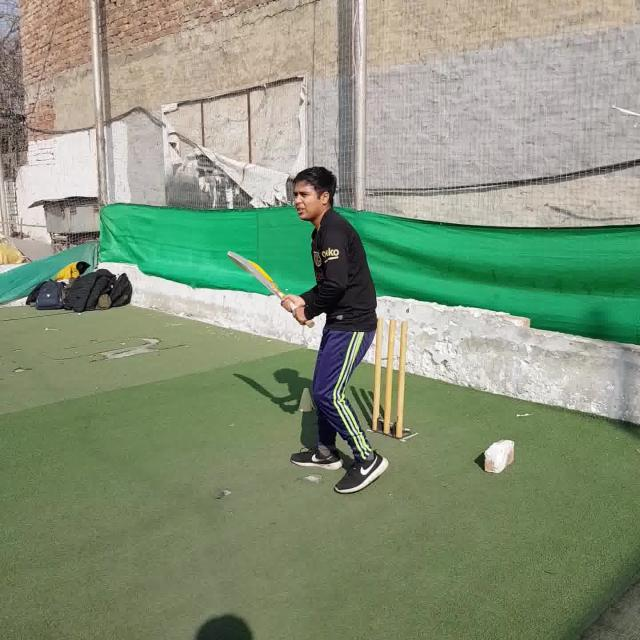bat: (226, 250, 314, 328)
